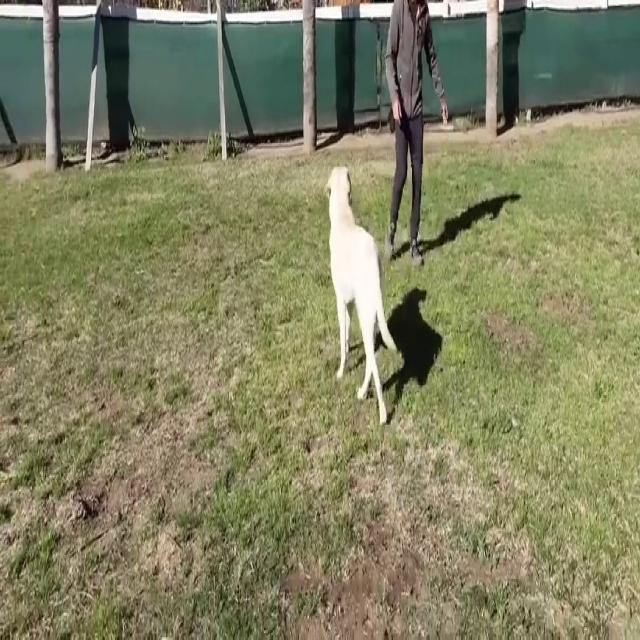Unleashed_Dog: (326, 117, 424, 427)
